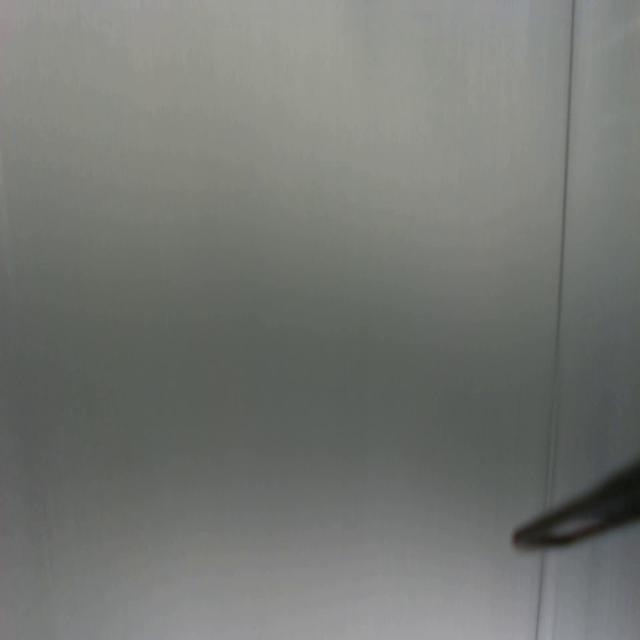crease: (543, 0, 578, 498), (534, 547, 547, 640)
